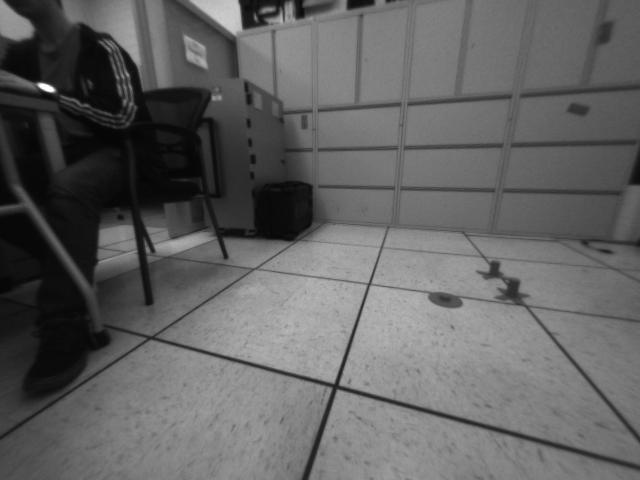X: (494, 279, 532, 306), (475, 259, 510, 280)
